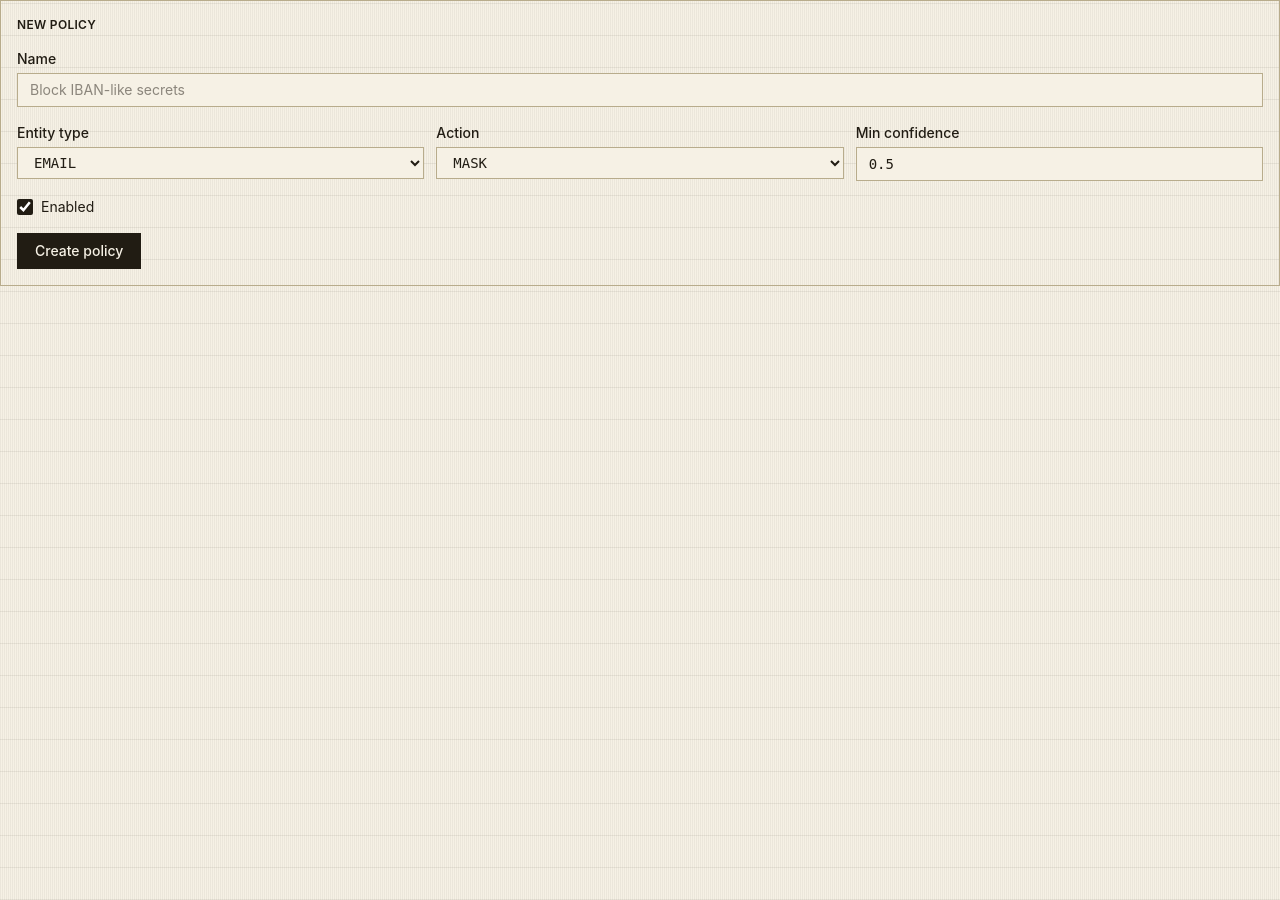
Scenario: PolicyForm › surfaces a server 4xx as a visible error message
Step 1. Type "x" into the field labelled "Name" → (640, 90), box [17,73,1263,107]
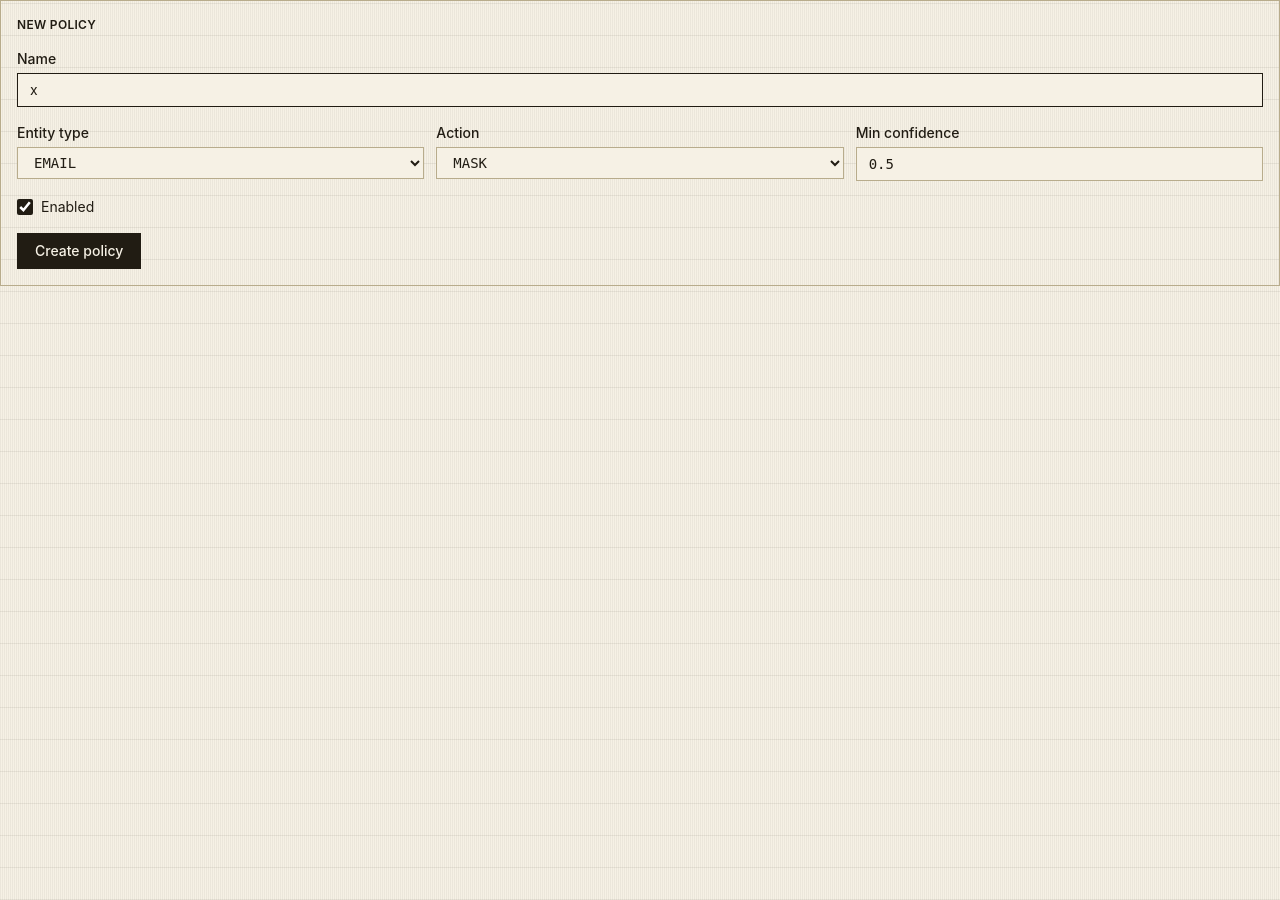
Step 2. Click the button "Create policy" → click(79, 251), box [17,233,141,269]
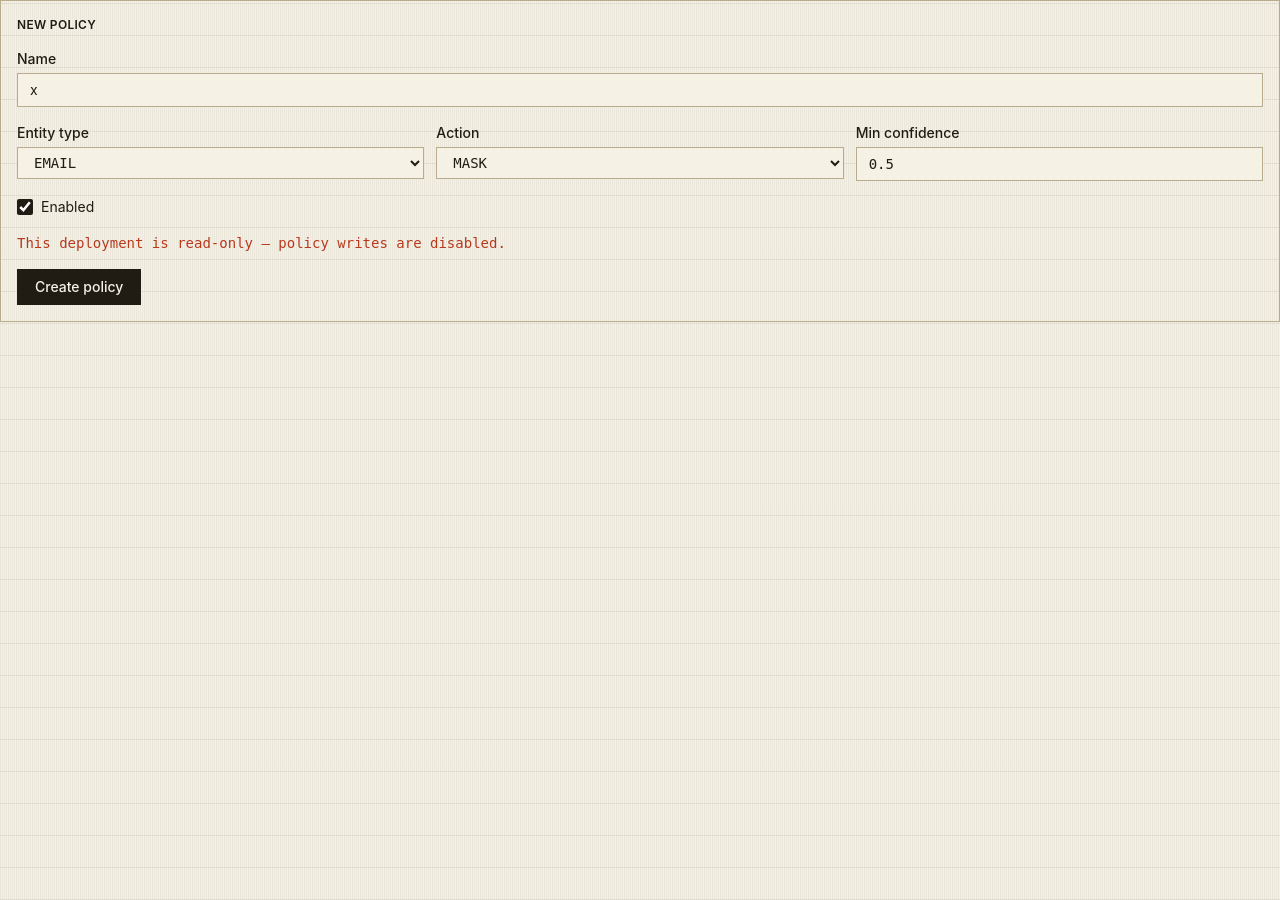
Now the text "This deployment is read-only — policy writes are disabled." is shown, box [17,235,506,251]
